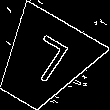L_SW: (15, 33, 71, 91)
